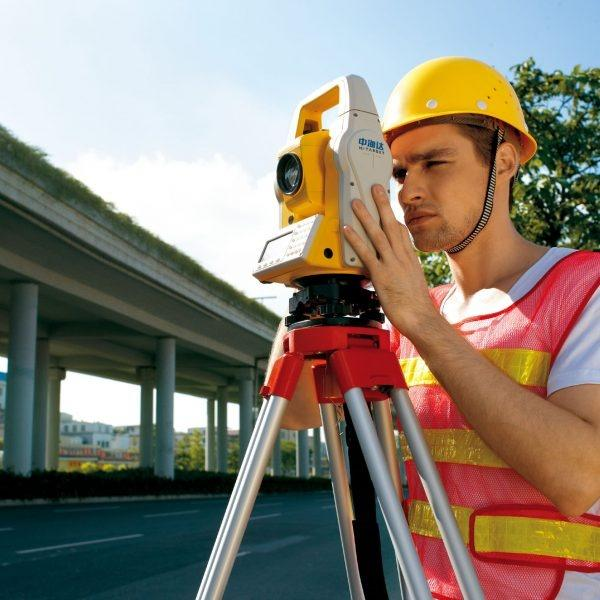Helmet: (379, 52, 538, 234)
Vest: (385, 248, 600, 600)
